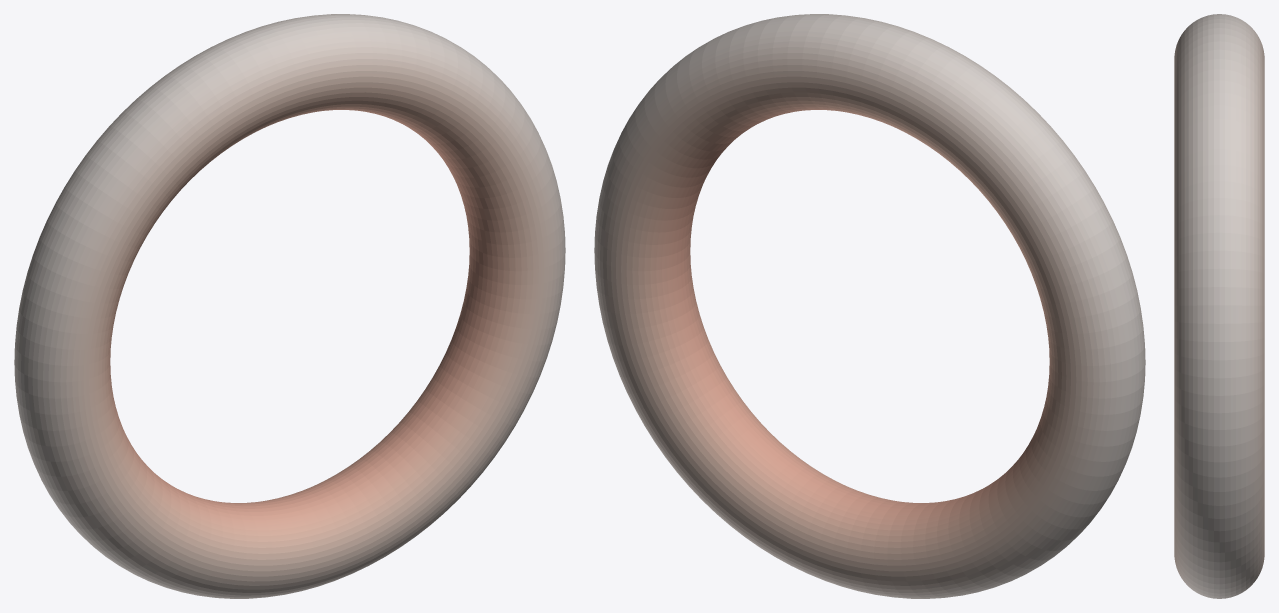
3 renders of one model, left to right at view 1: azimuth 30°, elevation 25°; view 2: azimuth 150°, elevation 25°; view 3: azimuth 270°, elevation 25°, orthographic. The views are drawn at different scales.
Visible parts, largest first — view 1: world; view 2: world; view 3: world.
Part boxes in pixels (x1,y1,x2,y2): world: (14, 14, 565, 598); world: (594, 14, 1145, 598); world: (1174, 14, 1264, 598).
Size of the model in its own units: 30.22 by 30.22 by 4.66.
